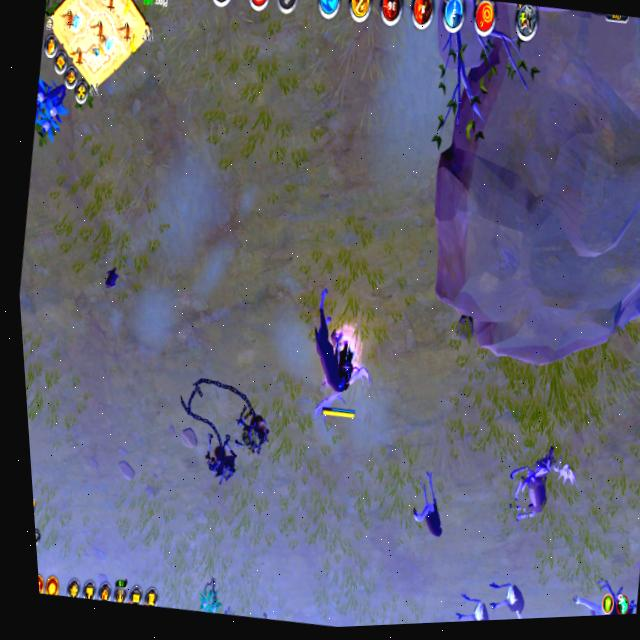hide: (28, 68, 77, 155), (195, 574, 227, 615)
mob: (497, 435, 586, 534), (478, 569, 538, 620), (448, 586, 501, 622)
ore: (293, 290, 387, 427), (399, 463, 463, 549)
red: (298, 288, 384, 428)
